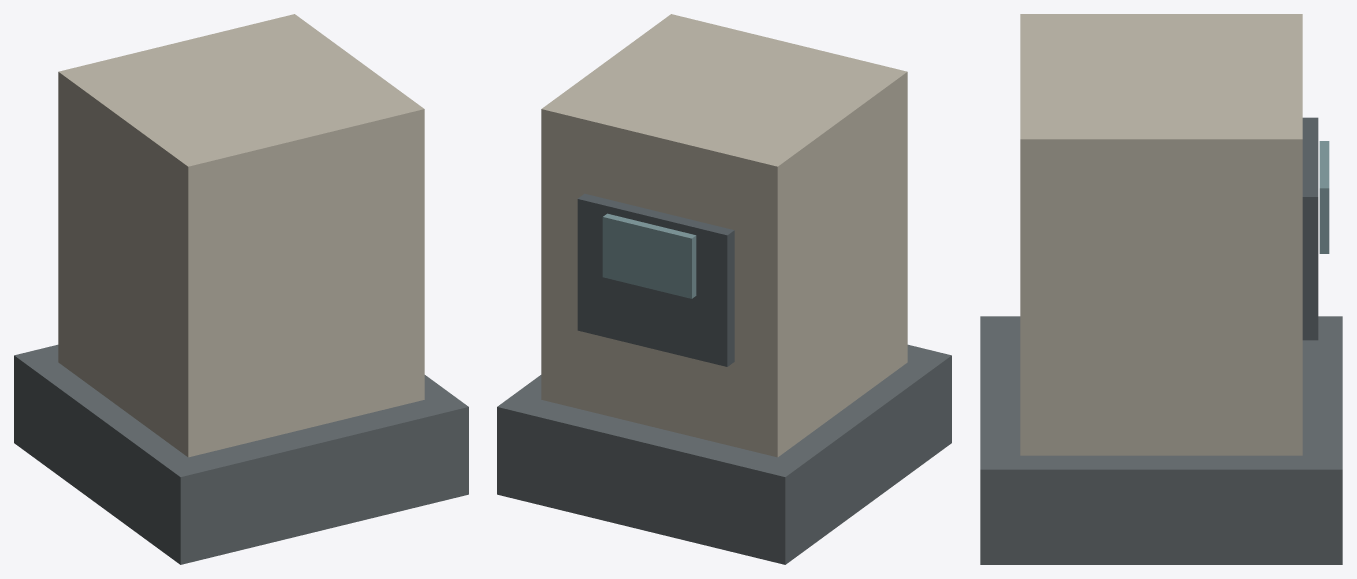
File: iz3_production_silo_01.glb
3 views of the same model, side by side, from view 1: azimuth 30°, elevation 25°; view 2: azimuth 150°, elevation 25°; view 3: azimuth 270°, elevation 25° (orthographic). The views are drawn at different scales.
Visible parts, largest first — view 1: cabinet, base; view 2: cabinet, base, panel, display; view 3: cabinet, base, panel, display.
Part boxes in pixels (box(x1,y1,x2,y2)): cabinet: box(58, 14, 424, 457); base: box(14, 344, 468, 564); cabinet: box(541, 14, 907, 457); base: box(497, 344, 951, 564); panel: box(577, 193, 734, 366); display: box(602, 213, 696, 298); cabinet: box(1020, 14, 1302, 455); base: box(980, 316, 1342, 564); panel: box(1302, 117, 1318, 340); display: box(1319, 141, 1329, 253).
Bounding box in the file's own units: 1.1 × 1.38 × 1.1.
